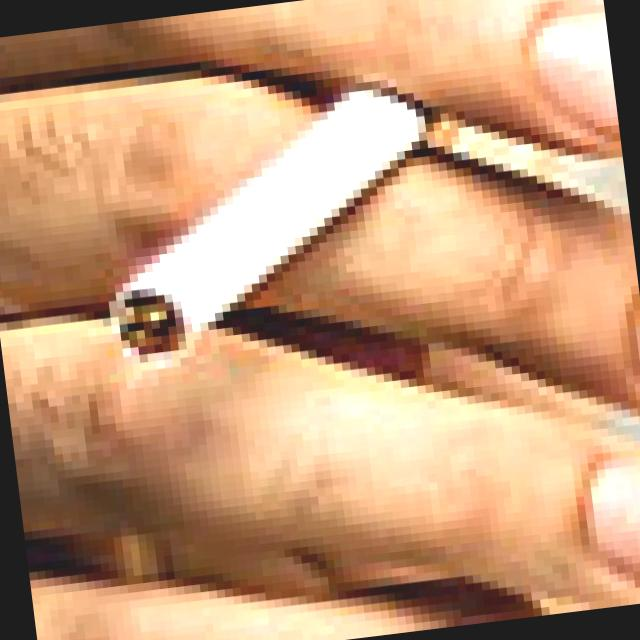smoke: (68, 65, 466, 367)
